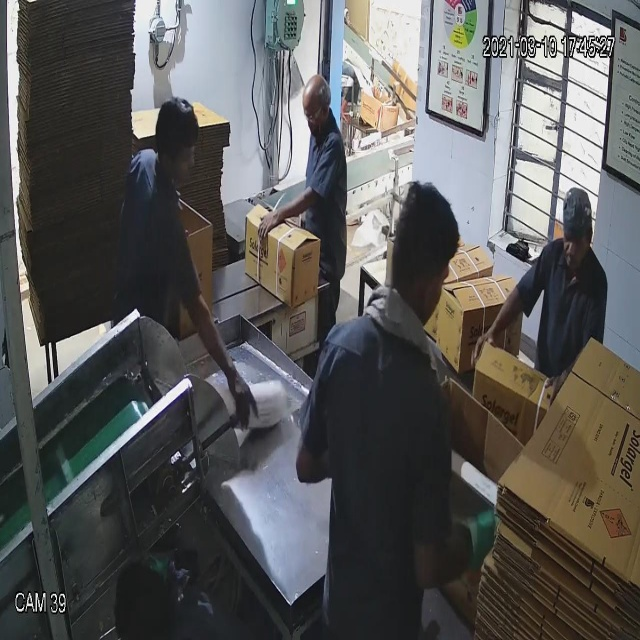Sin_guantes: (181, 260, 261, 443), (459, 269, 531, 371), (251, 187, 320, 244)
